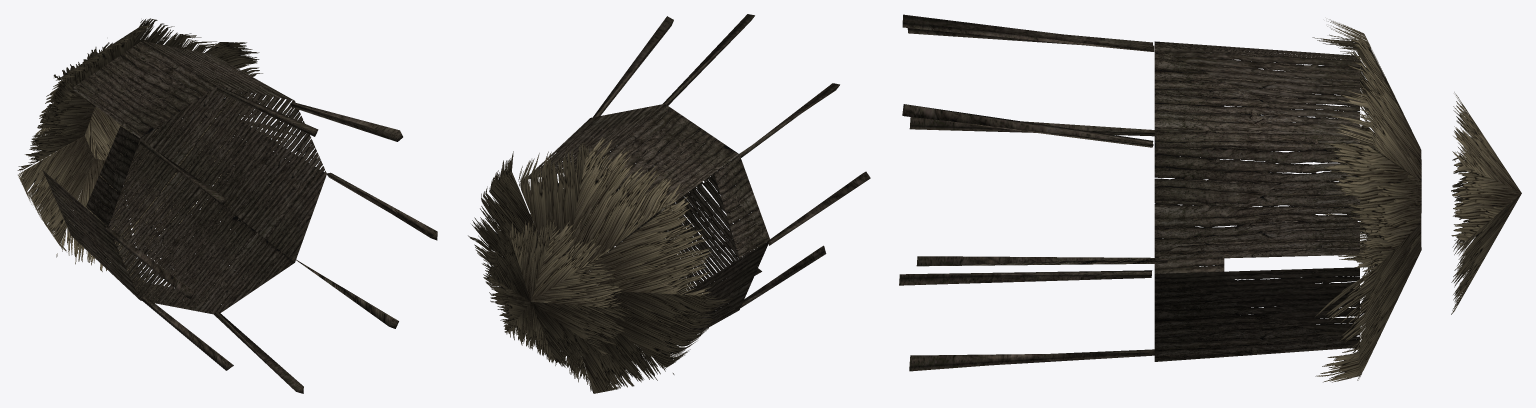
Rendered from Shack_04_LOD_03.fbx.
3 renders of one model, left to right at view 1: azimuth 30°, elevation 25°; view 2: azimuth 150°, elevation 25°; view 3: azimuth 270°, elevation 25°, orthographic. The views are drawn at different scales.
Visible parts, largest first — view 1: MEP_Shack_04_LOD_03; view 2: MEP_Shack_04_LOD_03; view 3: MEP_Shack_04_LOD_03.
Boxes of the visible parts, x1,y1,x2,y2 form: MEP_Shack_04_LOD_03: [17, 18, 437, 393]; MEP_Shack_04_LOD_03: [468, 14, 870, 393]; MEP_Shack_04_LOD_03: [899, 14, 1521, 382].
Bounding box in the file's own units: 8.14 × 7.8 × 11.71.
